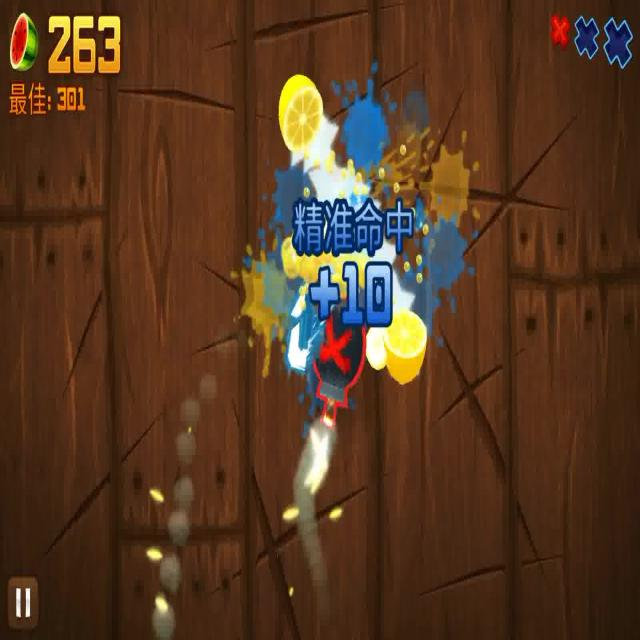bomb: (301, 305, 368, 417)
fruit: (276, 75, 324, 152), (387, 302, 426, 390)
